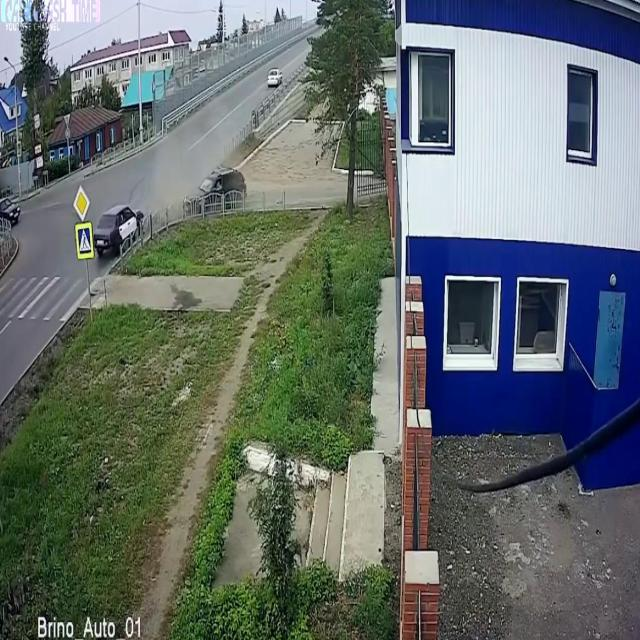accident: (88, 161, 252, 270)
